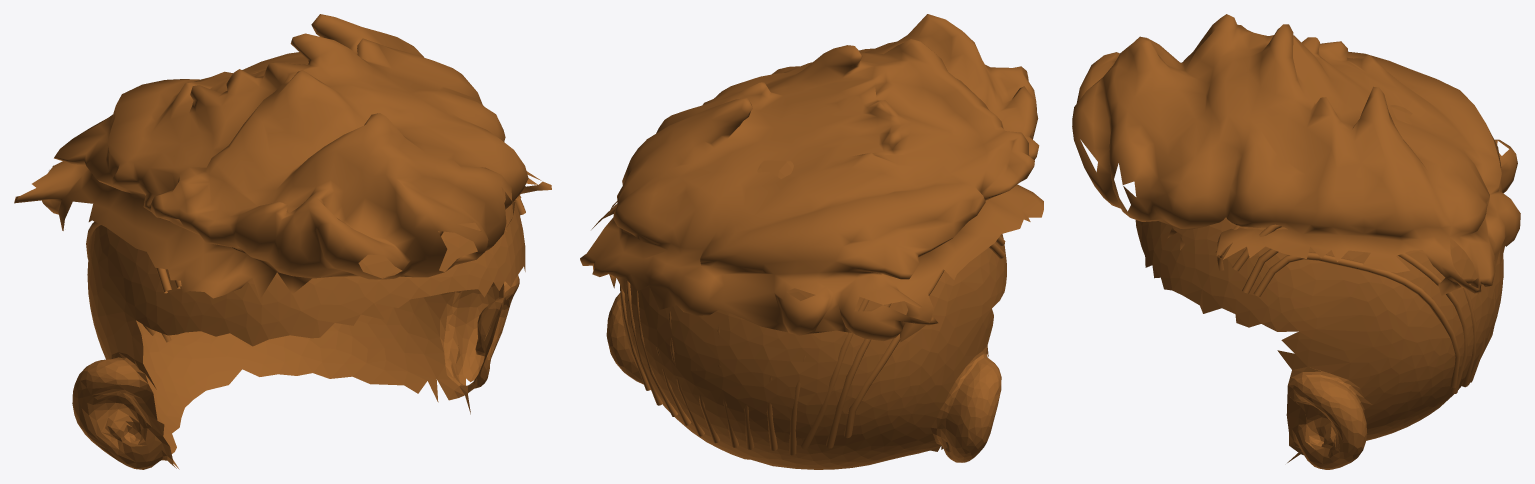
File: quiff.glb
3 views of the same model, side by side, from view 1: azimuth 30°, elevation 25°; view 2: azimuth 150°, elevation 25°; view 3: azimuth 270°, elevation 25° (orthographic). The views are drawn at different scales.
Parts seen in each view (by area): view 1: Hair, HairScalp, HairPulledRootStrands; view 2: Hair, HairScalp, HairPulledRootStrands; view 3: Hair, HairScalp, HairPulledRootStrands.
Part boxes in pixels (x1,y1,x2,y2): Hair: (14, 14, 551, 299); HairScalp: (72, 68, 525, 469); HairPulledRootStrands: (86, 195, 525, 342); Hair: (580, 14, 1043, 342); HairScalp: (606, 160, 1006, 469); HairPulledRootStrands: (620, 236, 1005, 455); Hair: (1072, 14, 1520, 295); HairScalp: (1135, 105, 1503, 469); HairPulledRootStrands: (1216, 224, 1503, 393).
Bounding box in the file's own units: 0.5136 × 0.4787 × 0.5275.
